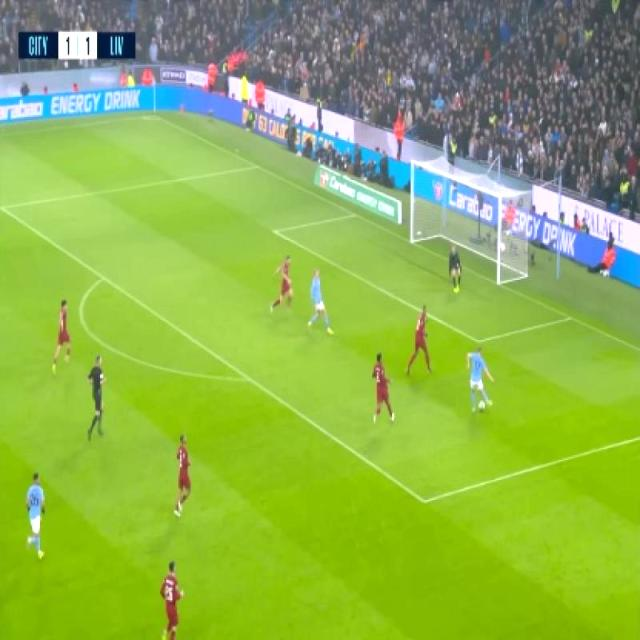bigarea_bottom_inner: (412, 484, 436, 516)
bigarea_top_inner: (0, 195, 10, 218)
bigarea_top_outter: (248, 156, 264, 174)
bottom_arc_area_intersection: (238, 364, 258, 390)
corner: (143, 109, 162, 123)
smallarea_bottom_inner: (468, 324, 488, 354)
smallarea_bottom_outter: (560, 304, 578, 328)
smallarea_top_inner: (265, 220, 283, 242)
smallarea_top_outter: (346, 205, 362, 223)
top_arc_area_intersection: (92, 266, 112, 288)
